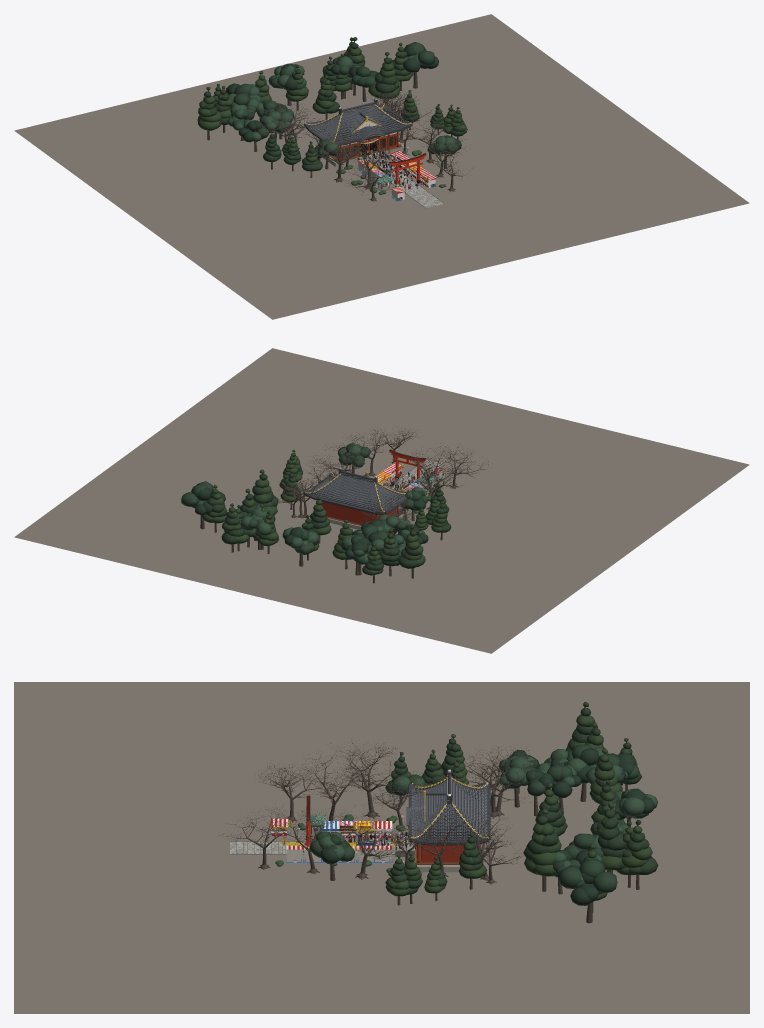
Rendered from hatsumode_shrine_full.glb.
3 renders of one model, top to bottom at view 1: azimuth 30°, elevation 25°; view 2: azimuth 150°, elevation 25°; view 3: azimuth 270°, elevation 25°, orthographic. The views are drawn at different scales.
Visible parts, largest first — view 1: Ground, Haiden_Roof, Haiden, Sugi29_Leaves, SandoPath, Broadleaf28_Leaves, Sugi25_Leaves, BareTree2, Broadleaf22_Leaves, Sugi12_Leaves, Broadleaf9_Leaves, BareTree0; view 2: Ground, Haiden_Roof, Haiden, Broadleaf28_Leaves, Broadleaf22_Leaves, BareTree2, Sugi25_Leaves, Sugi29_Leaves, Sugi17_Leaves, Broadleaf23_Leaves, Broadleaf_R_Leaves, Sugi31_Leaves (+2 smaller); view 3: Ground, Haiden_Roof, Broadleaf28_Leaves, Sugi29_Leaves, BareTree2, Haiden, Sugi26_Leaves, Sugi17_Leaves, Broadleaf22_Leaves, Broadleaf_R_Leaves, BareTree5, BareTree1 (+21 smaller).
Boxes of the visible parts, x1,y1,x2,y2 form: Ground: (14,14,749,319); Haiden_Roof: (304,98,412,145); Haiden: (313,132,403,166); Sugi29_Leaves: (368,52,400,99); SandoPath: (375,162,444,208); Broadleaf28_Leaves: (403,42,438,72); Sugi25_Leaves: (197,87,221,130); BareTree2: (304,130,371,182); Broadleaf22_Leaves: (268,63,306,90); Sugi12_Leaves: (312,75,339,113); Broadleaf9_Leaves: (260,111,293,133); BareTree0: (333,138,394,189); Ground: (14,348,749,653); Haiden_Roof: (304,467,407,514); Haiden: (321,502,404,529); Broadleaf28_Leaves: (181,481,225,514); Broadleaf22_Leaves: (282,526,318,554); BareTree2: (401,462,464,511); Sugi25_Leaves: (398,525,425,568); Sugi29_Leaves: (252,469,278,515); Sugi17_Leaves: (221,503,244,544); Broadleaf23_Leaves: (240,506,275,535); Broadleaf_R_Leaves: (337,443,370,467); Sugi31_Leaves: (201,484,227,523); Ground: (14,682,749,1013); Haiden_Roof: (408,769,490,845); Broadleaf28_Leaves: (558,859,617,905); Sugi29_Leaves: (523,809,561,876); BareTree2: (333,740,405,819); Haiden: (395,833,482,872); Sugi26_Leaves: (597,802,626,870); Sugi17_Leaves: (621,820,658,874); Broadleaf22_Leaves: (600,788,657,819); Broadleaf_R_Leaves: (309,831,354,864); BareTree5: (326,805,406,879); BareTree1: (254,760,329,822).
Bounding box in the file's own units: 160 × 18.68 × 150.
